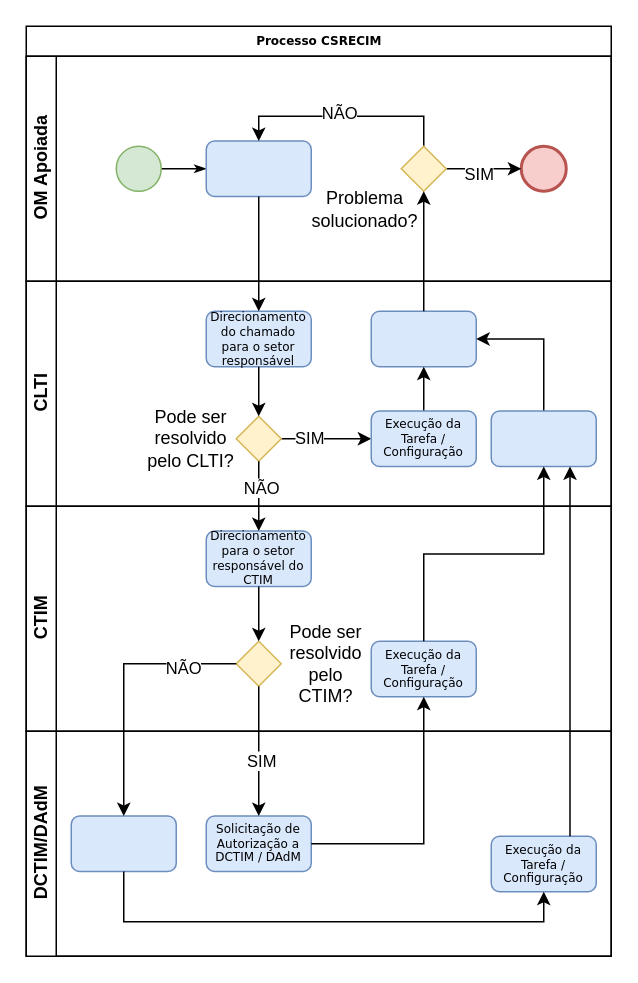
Some shapes in this 638 by 983 pixel diagram are drawn without their labels. The centre of each missing label's shape, as x and y in pixels:
"Abertura de chamado CSRECIM pelo ADMIN" goes at (258,168).
"Direcionamento para o setor responsável da DCTIM" goes at (123,843).
"Fim" goes at (543,168).
"Início" goes at (138,168).
"Resposta ao CLTI" goes at (543,438).
"Resposta da OM" goes at (423,338).
